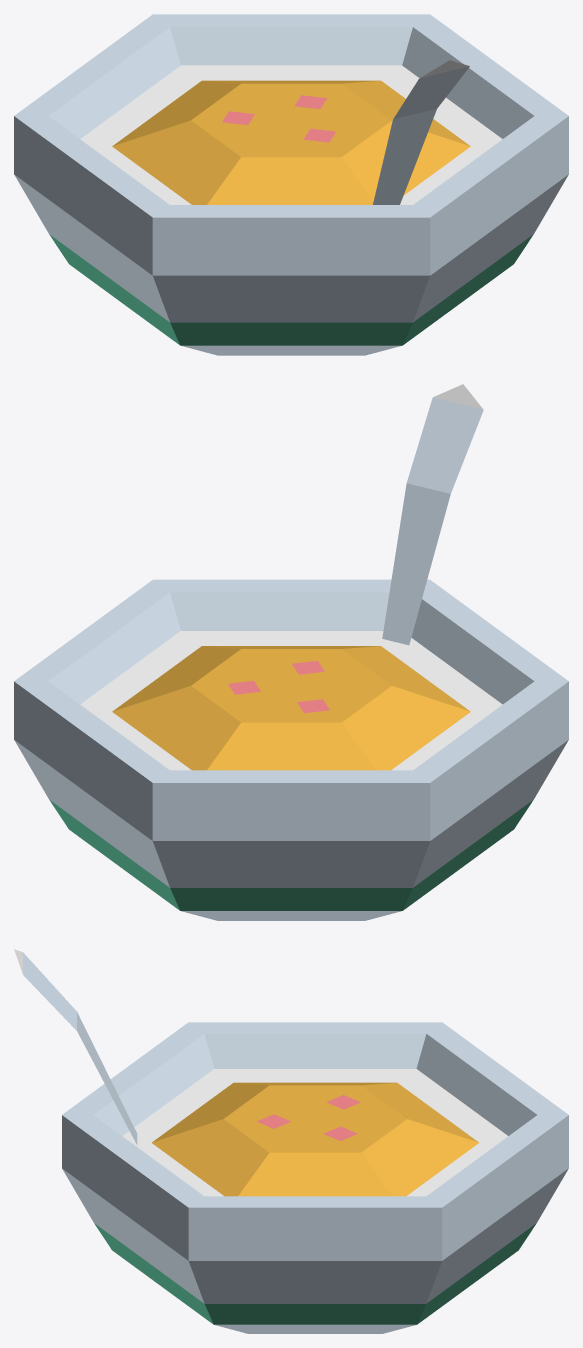
The model's file is bowlCereal.obj.
3 views of the same model, one above another, from view 1: azimuth 30°, elevation 25°; view 2: azimuth 150°, elevation 25°; view 3: azimuth 270°, elevation 25° (orthographic). The views are drawn at different scales.
Parts seen in each view (by area): view 1: bowlCereal; view 2: bowlCereal; view 3: bowlCereal.
Part boxes in pixels (<box>): bowlCereal: <box>14,14,568,355</box>; bowlCereal: <box>14,384,568,920</box>; bowlCereal: <box>14,949,568,1333</box>.
Size of the model in its own units: 0.5022 by 0.4193 by 0.6346.
